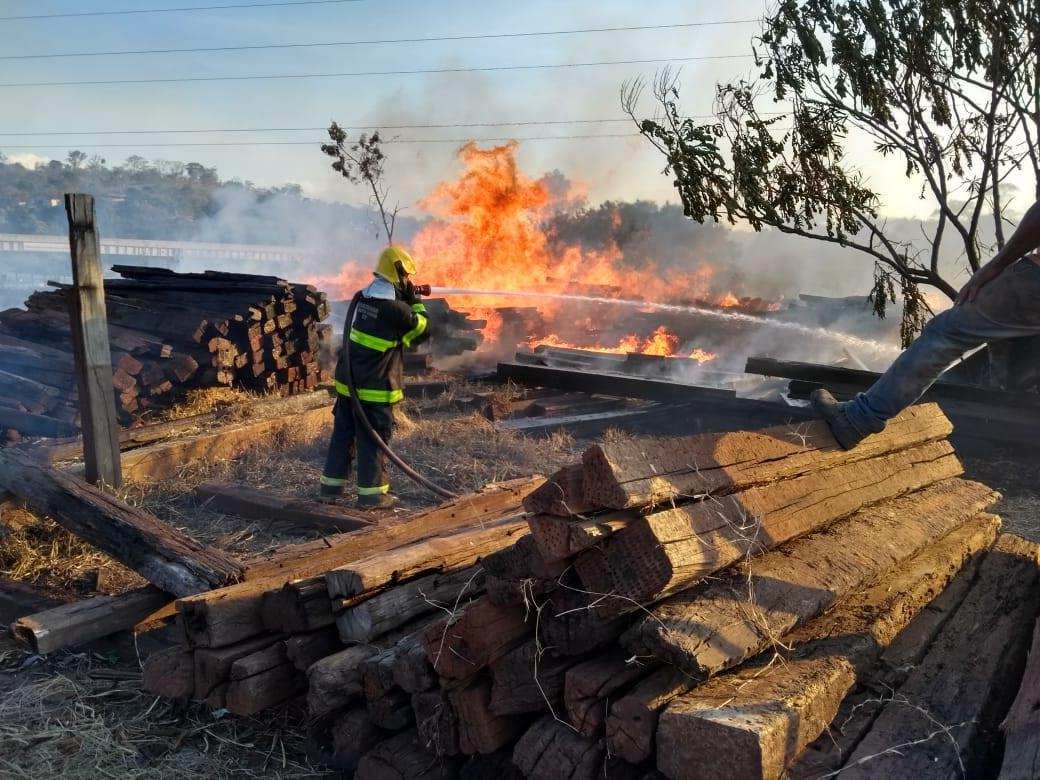Fire: (328, 150, 703, 303), (531, 334, 711, 358)
